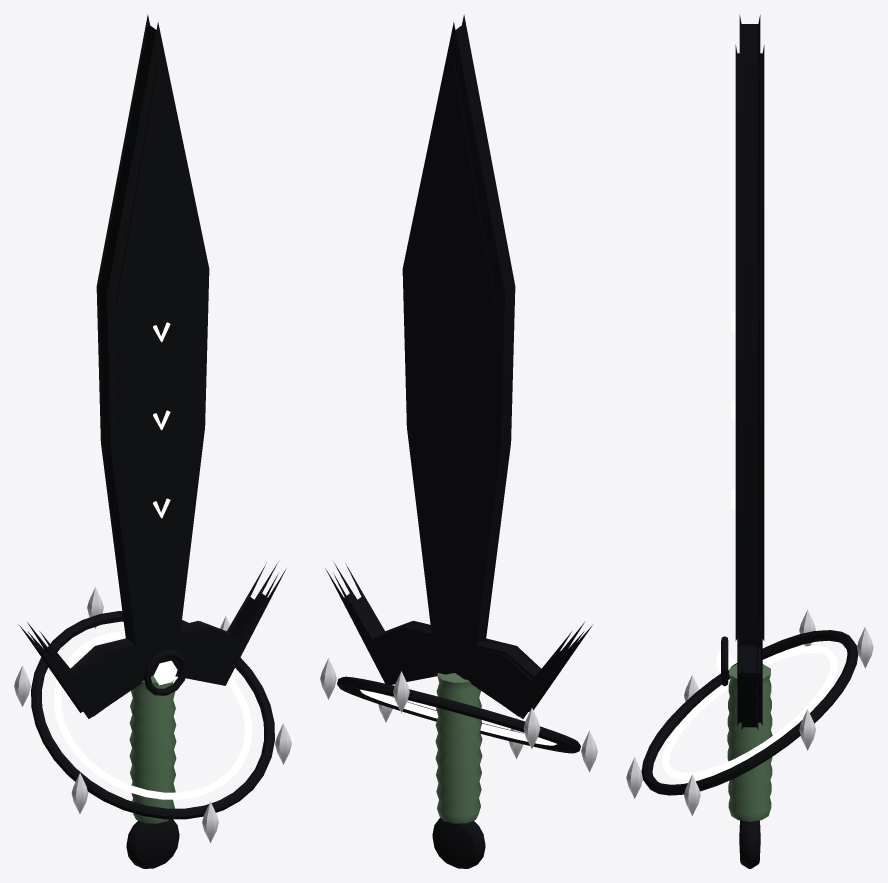
The model's file is esc_w_shadowblade_sword_2.glb.
3 renders of one model, left to right at view 1: azimuth 30°, elevation 25°; view 2: azimuth 150°, elevation 25°; view 3: azimuth 270°, elevation 25°, orthographic.
Visible parts, largest first — view 1: esc_w_shadowblade_sword_2; view 2: esc_w_shadowblade_sword_2; view 3: esc_w_shadowblade_sword_2.
Part boxes in pixels (x1,y1,x2,y2): esc_w_shadowblade_sword_2: (14,14,291,868); esc_w_shadowblade_sword_2: (320,14,597,868); esc_w_shadowblade_sword_2: (626,15,873,868).
Bounding box in the file's own units: 0.3238 × 1.01 × 0.265.
